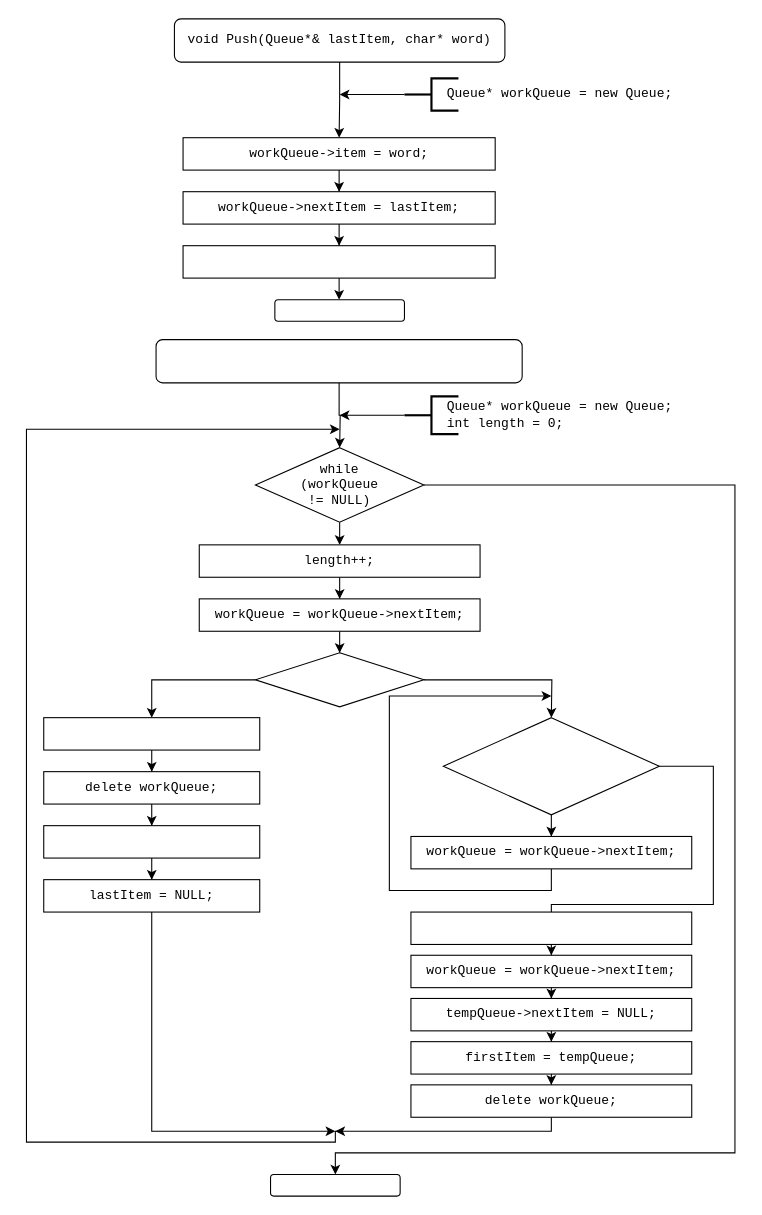
Image size: 762x1215. Some labels were removed from this diagram. The centre of each missing label's shape, as x and y in pixels:
"char* t = lastItem->item;" belongs at (151,733).
"firstItem = NULL;" belongs at (151,841).
"if (length == 1) ." belongs at (339,679).
"lastItem = workQueue;" belongs at (338,261).
"Queue* tempQueue = workQueue;" belongs at (551,927).
"void Pop(Queue*& firstItem, Queue*& lastItem)" belongs at (338,361).
"while ( workQueue ->nextItem-> nextItem != NULL)" belongs at (550,766).
